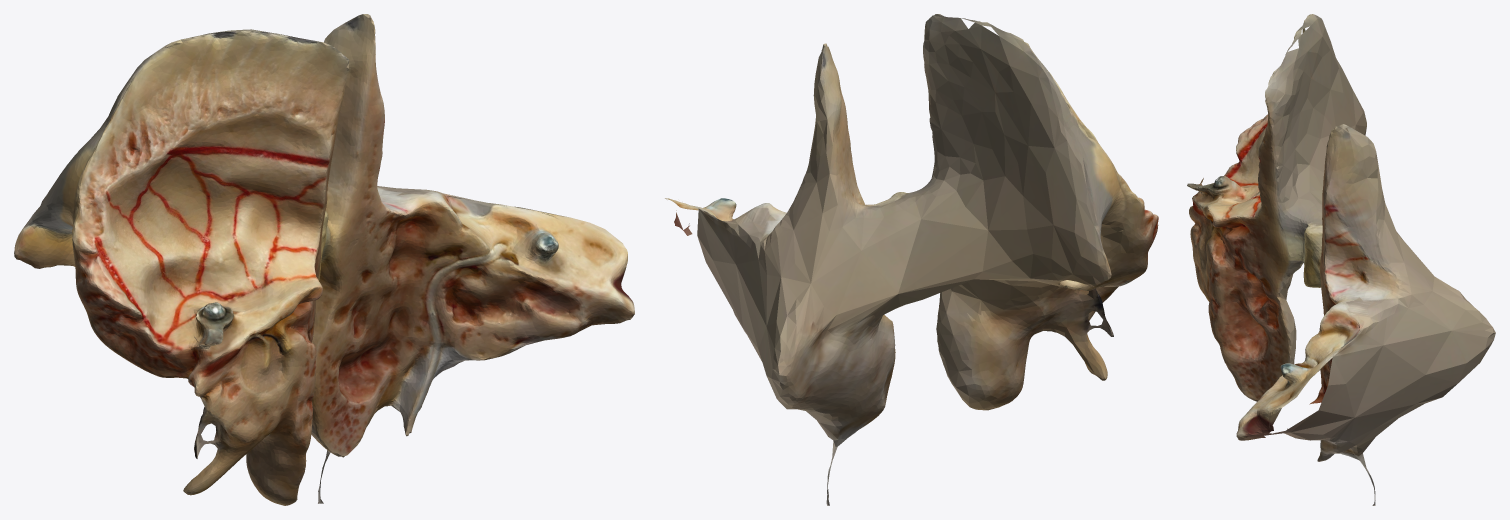
File: ear-model-2.glb
The picture shows the model from 3 angles, left to right: view 1: azimuth 30°, elevation 25°; view 2: azimuth 150°, elevation 25°; view 3: azimuth 270°, elevation 25°; orthographic projection. The views are drawn at different scales.
Size of the model in its own units: 0.88 by 0.8178 by 0.5396.
Materials: 1 (1 with a texture image).
